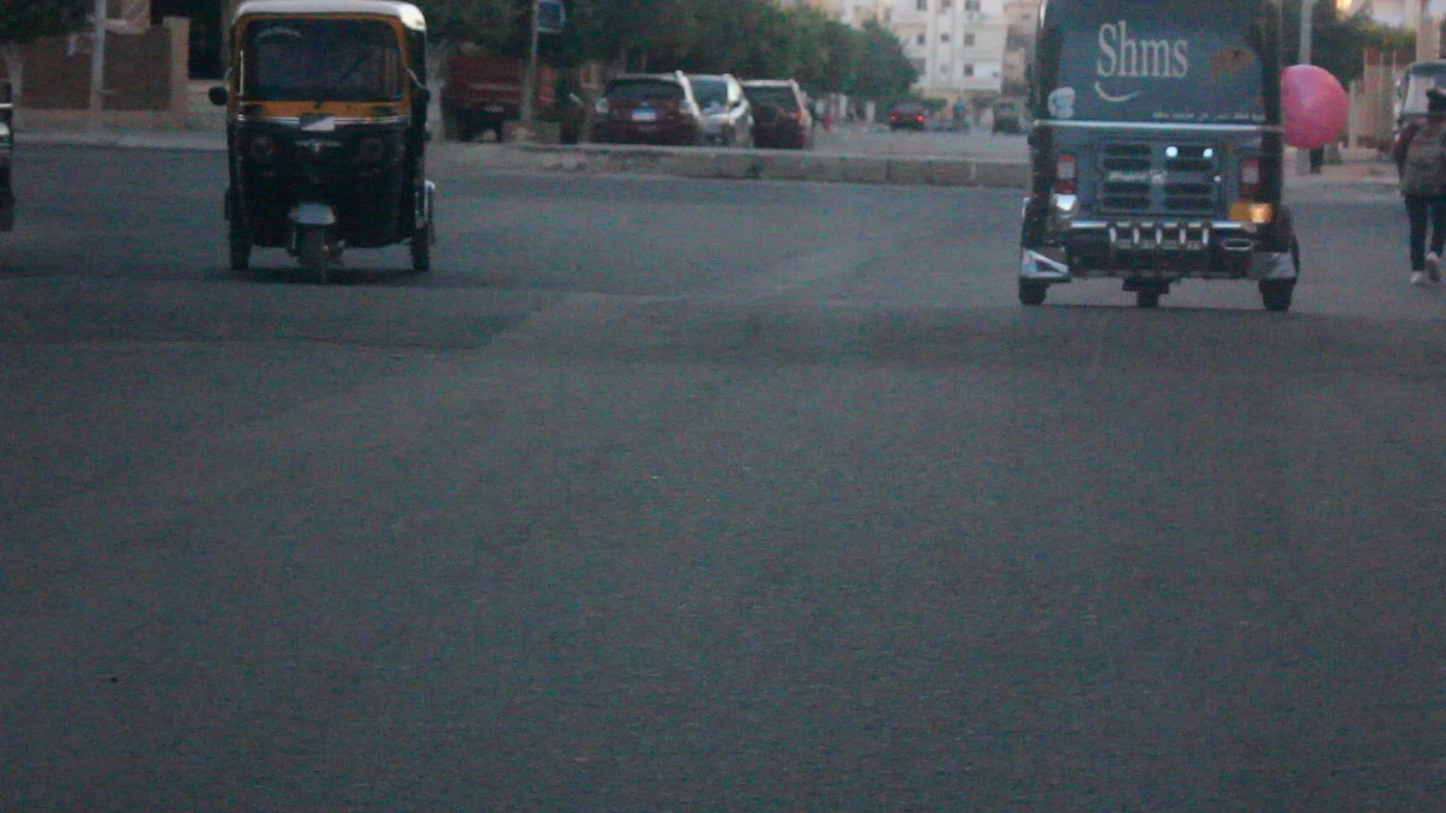Bump: (0, 265, 1446, 391)
